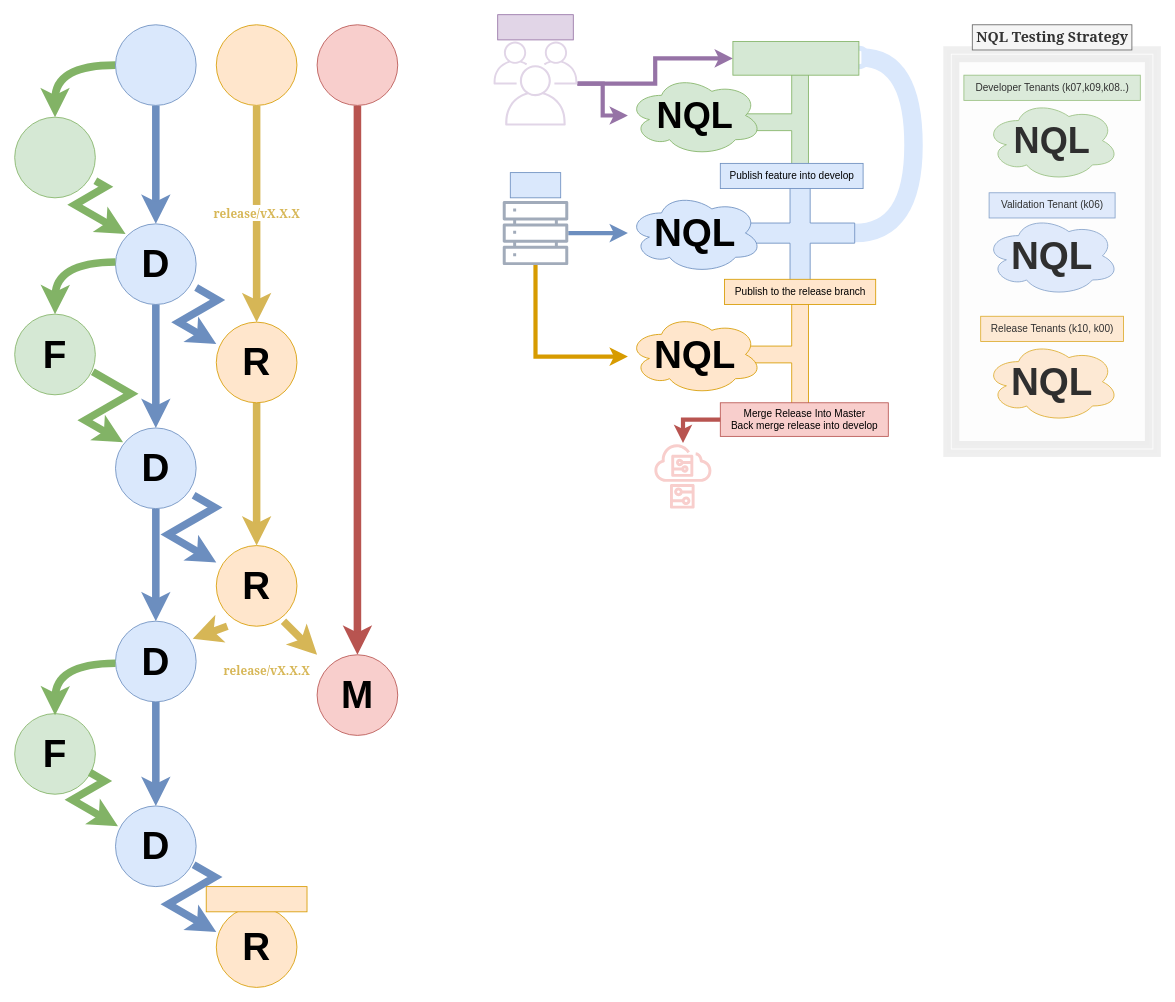
Some shapes in this 1175 by 1002 pixel diagram are drawn without their labels. Here are the shapes that lost their labels. From the top down, the centre of each, then its label:
At (x=535, y=27): "Manual Work".
At (x=155, y=64): "Dev".
At (x=256, y=64): "Rel".
At (x=357, y=64): "Main".
At (x=795, y=58): "Create a feature branch".
At (x=54, y=157): "Feat".
At (x=535, y=185): "Automated".
At (x=682, y=475): "Tag vX.X.X".
At (x=256, y=899): "release/vX.X.X + 1".
